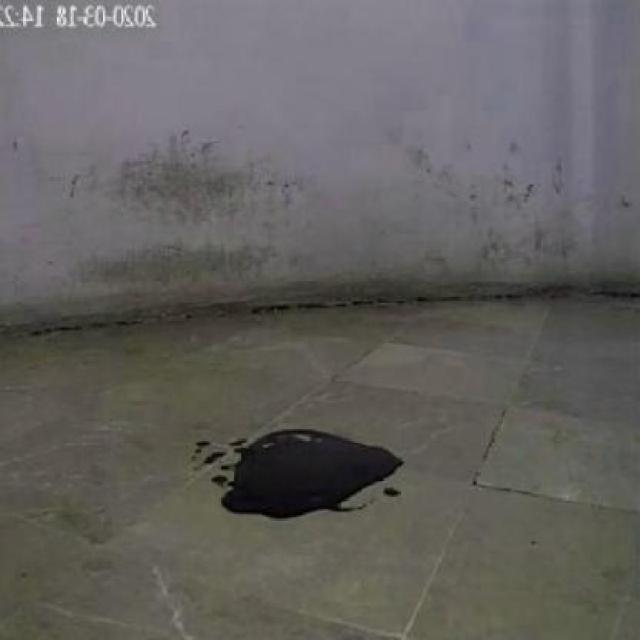spillage: (220, 430, 405, 520)
